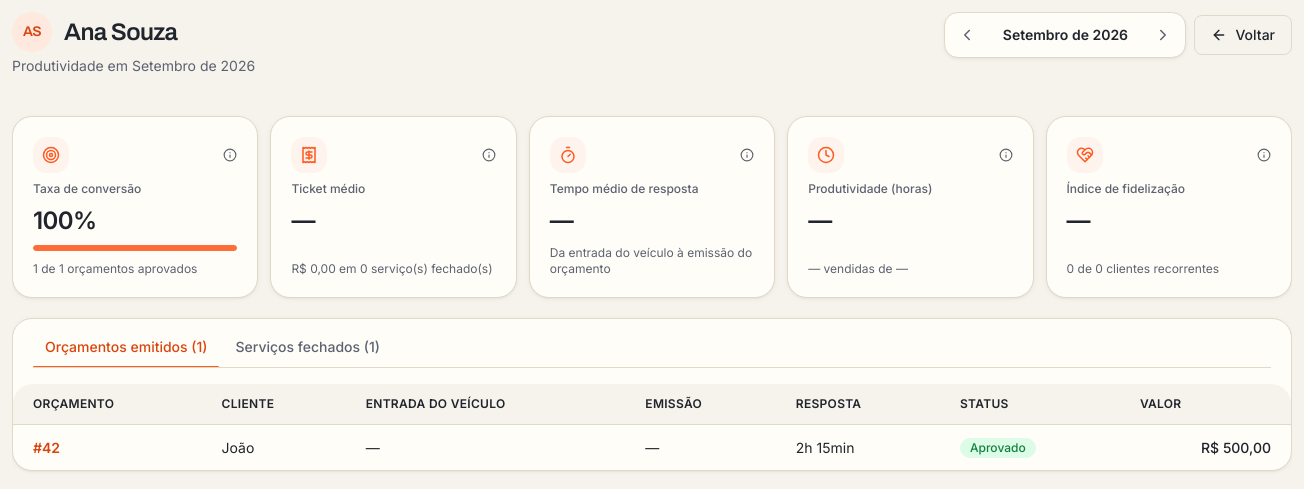
ConsultorDetalhePage › shows the consultor, the quotes issued with response time, and the closed services
Expected: the text "Ana Souza" is shown, left=64, top=19, right=177, bottom=45
Expected: the text "2h 15min" is shown, left=776, top=424, right=940, bottom=470
What coordinates should you click on to do the following:
click the button "Serviços fechados (1)"
I would click on:
 (308, 347)
Its box is left=224, top=327, right=392, bottom=367.
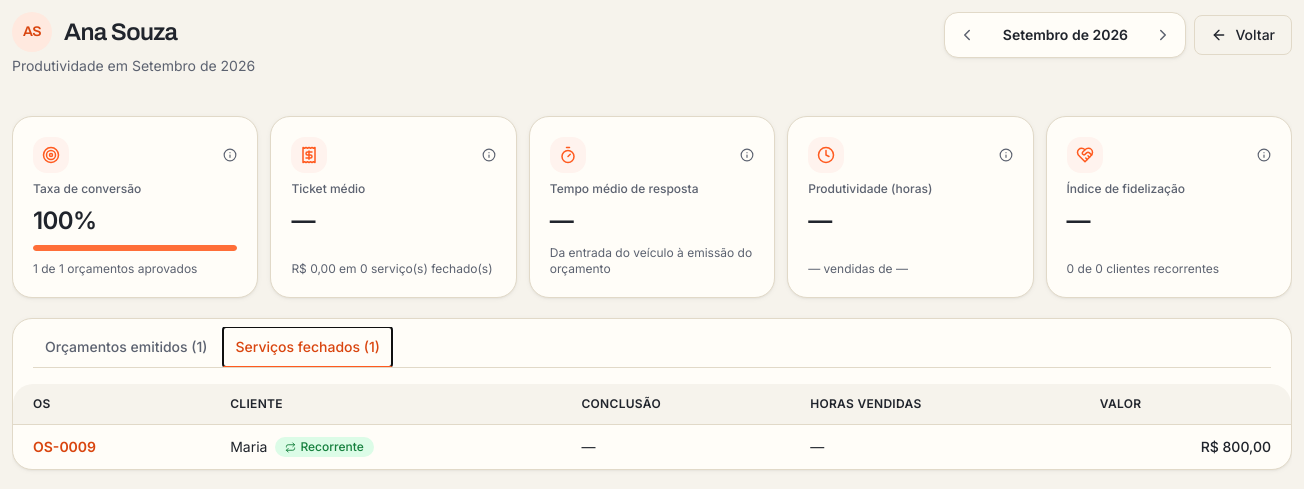
Expected: the link "OS-0009" is shown, left=33, top=438, right=96, bottom=455
Expected: the text "Recorrente" is shown, left=275, top=437, right=374, bottom=457
